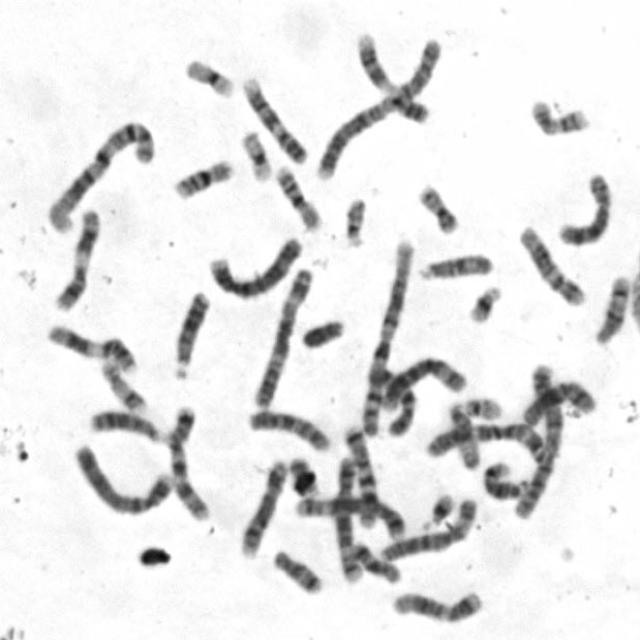A1: (43, 115, 158, 234), (358, 238, 416, 440)
A2: (312, 33, 445, 182), (510, 361, 568, 520)
A3: (248, 262, 316, 410), (422, 418, 549, 462)
B4: (69, 439, 176, 518), (205, 232, 304, 301)
B5: (290, 491, 408, 539), (332, 457, 366, 583)
C10: (244, 405, 333, 453), (366, 365, 417, 440)
C11: (49, 204, 101, 313), (44, 320, 138, 375)
C12: (515, 220, 587, 308), (388, 586, 487, 624)
C6: (377, 494, 480, 563), (377, 352, 468, 412)
C7: (163, 404, 211, 521), (338, 420, 379, 532)
C8: (236, 454, 288, 558), (554, 168, 614, 248)
C9: (353, 28, 431, 127), (239, 74, 308, 166)
D13: (169, 286, 213, 381), (87, 405, 163, 444)
D14: (590, 270, 631, 346), (480, 457, 529, 501)
D15: (444, 399, 482, 472), (415, 248, 495, 282)
E16: (272, 162, 324, 232), (168, 155, 235, 201)
E17: (96, 355, 149, 415), (526, 93, 592, 139)
E18: (270, 545, 325, 596), (351, 542, 403, 586)
F19: (181, 54, 237, 100), (237, 126, 273, 186)
F20: (415, 180, 460, 235), (288, 456, 320, 500)
G21: (463, 280, 504, 327), (418, 488, 456, 532)
G22: (339, 193, 369, 250), (460, 392, 505, 421)
X: (518, 376, 598, 428)
Y: (297, 316, 346, 350)
